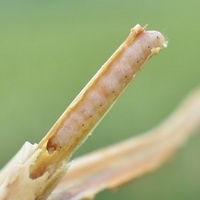insect: (0, 24, 199, 199), (0, 24, 166, 199)
